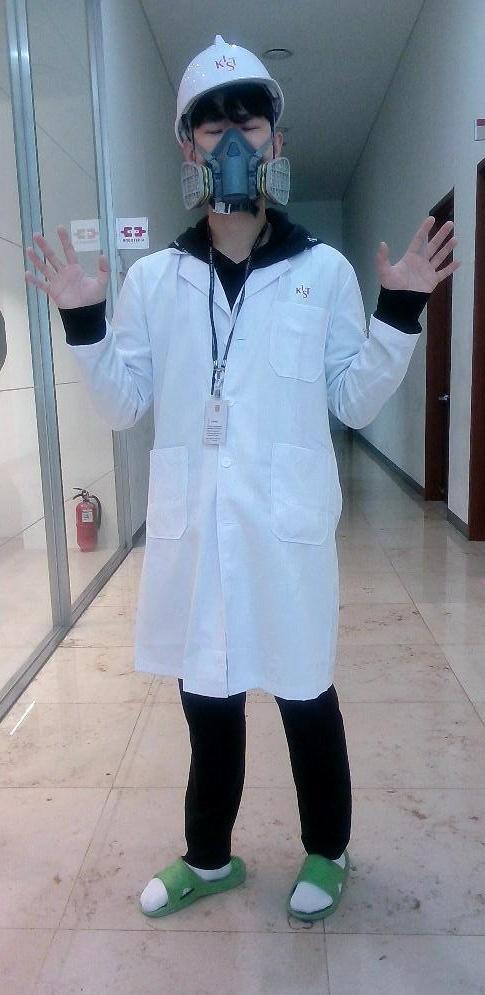lab_coat: (147, 256, 346, 682)
